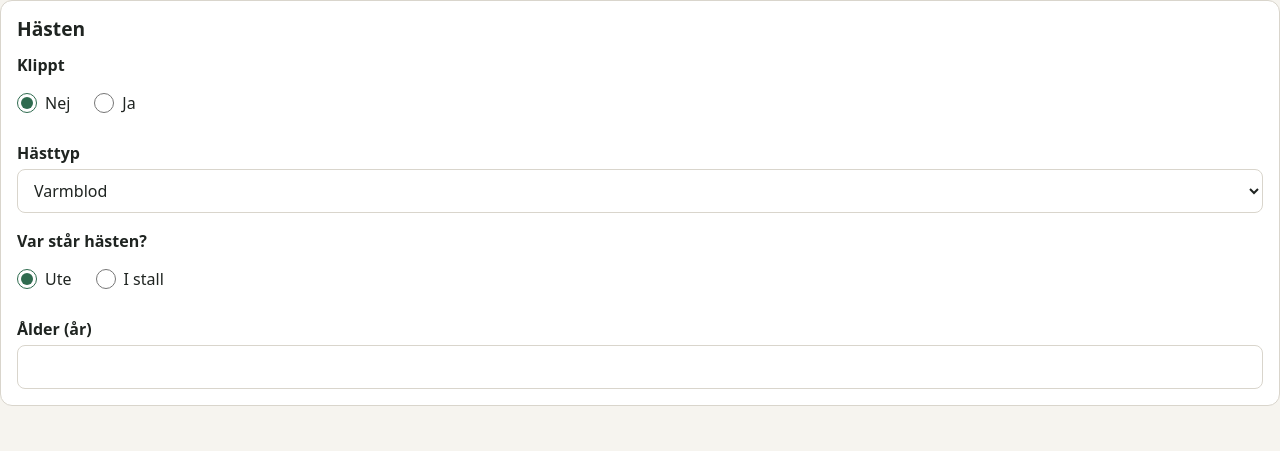
Test: HorseForm › explains that 41 is not a valid age
Type "41" into the number field labelled "Ålder (år)" at (640, 367), box [17,345,1263,389]
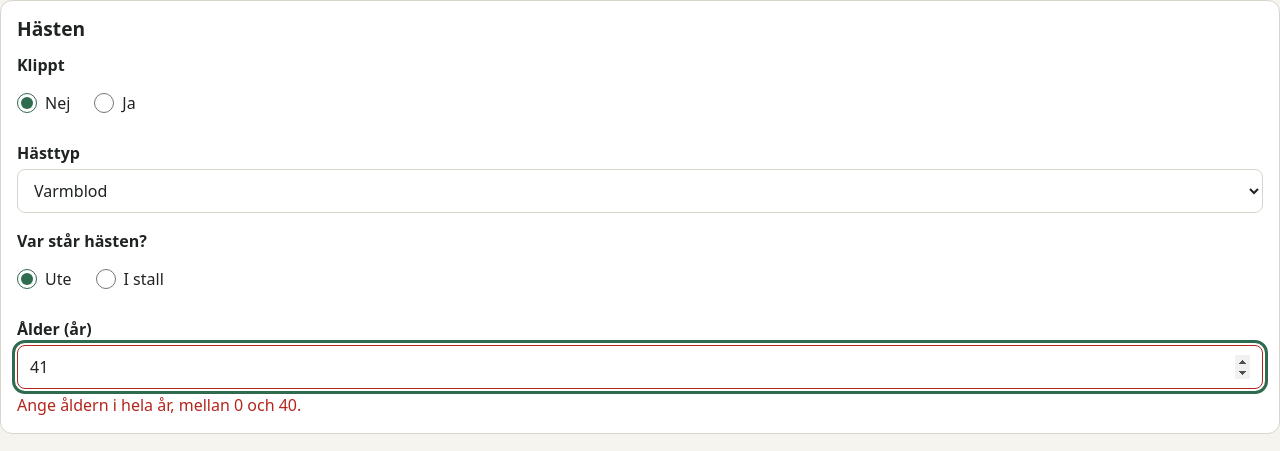
Check: the text "Ange åldern i hela år, mellan 0 och 40." is shown, box [17,394,301,416]
